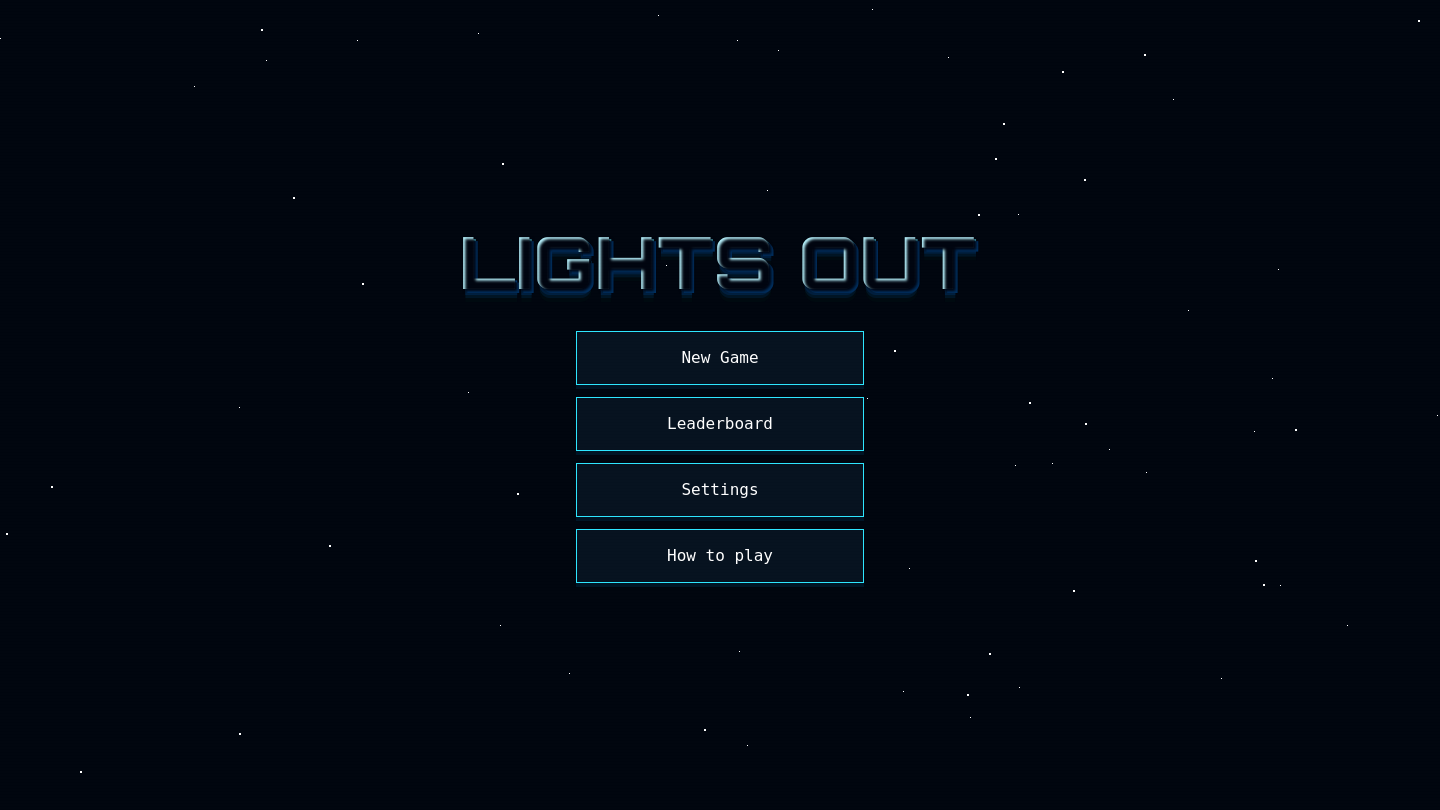
Test: App › navigates from the title to the difficulty screen
Click the button "New Game" at {"x": 720, "y": 358}, box [576,331,864,385]
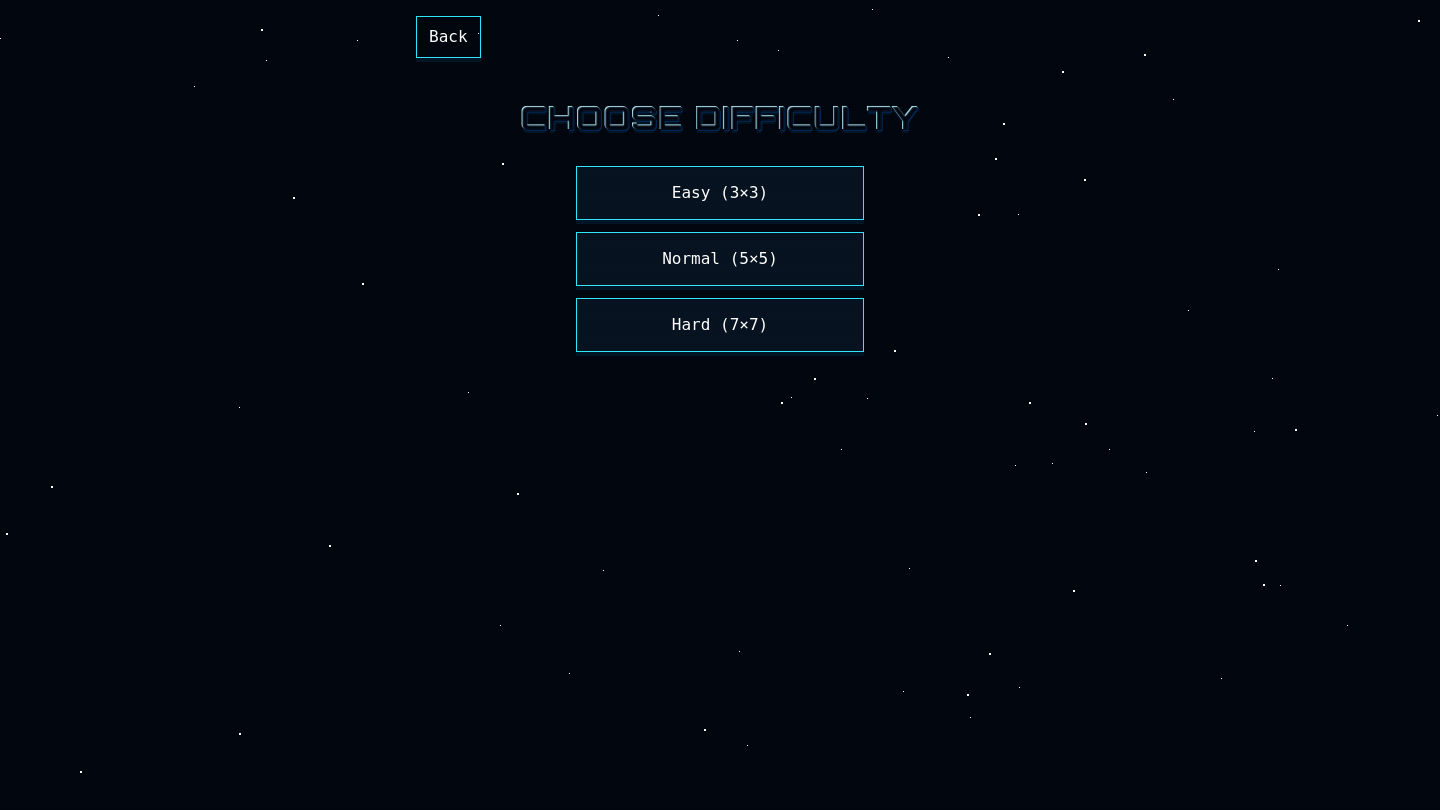
Expected: the heading "Choose difficulty" is shown, [521,102,919,134]
